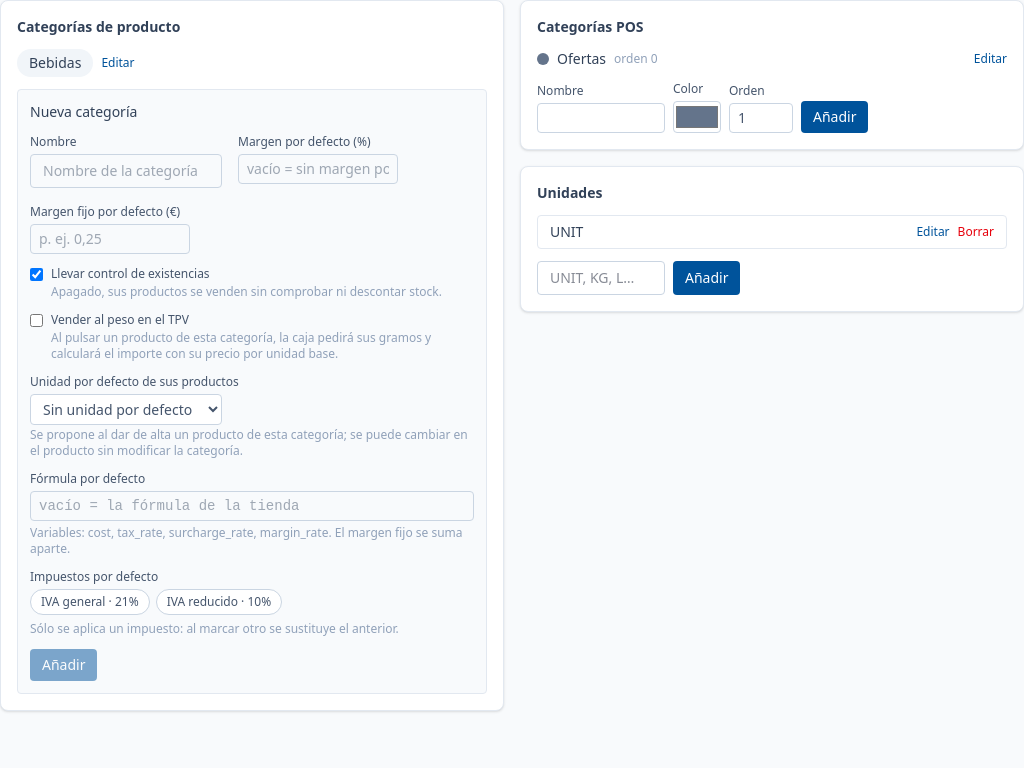
Test: CategoriesPage › deactivates a POS category
Expected: the text "Ofertas" is shown, [557,49,606,69]
Click the button with aria-label "Editar «Ofertas»": x=990, y=59 [974,51,1007,67]
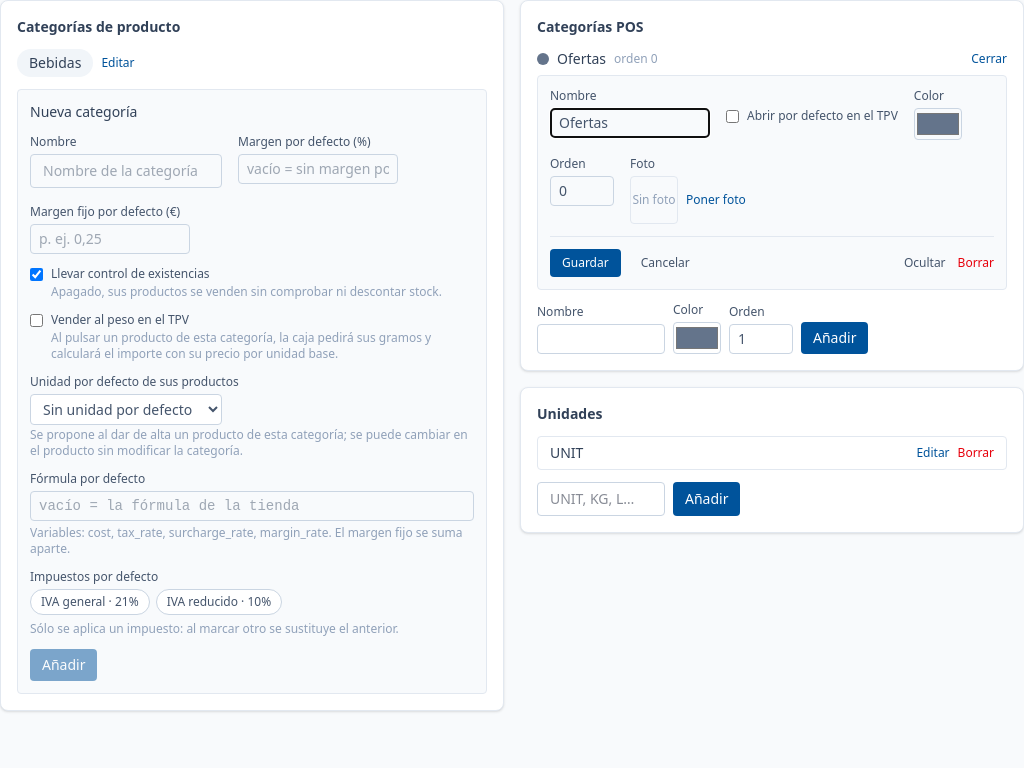
Click the button "Ocultar": x=925, y=263 [904,255,946,271]
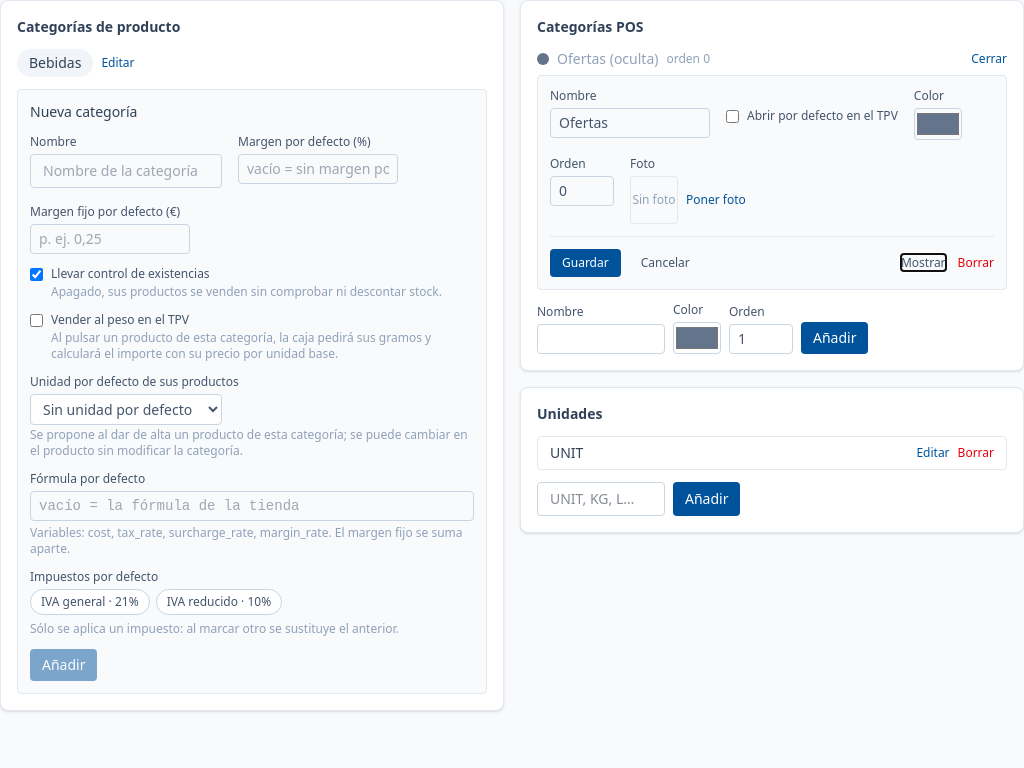
Now the text "Ofertas (oculta)" is shown, box [557,49,658,69]
